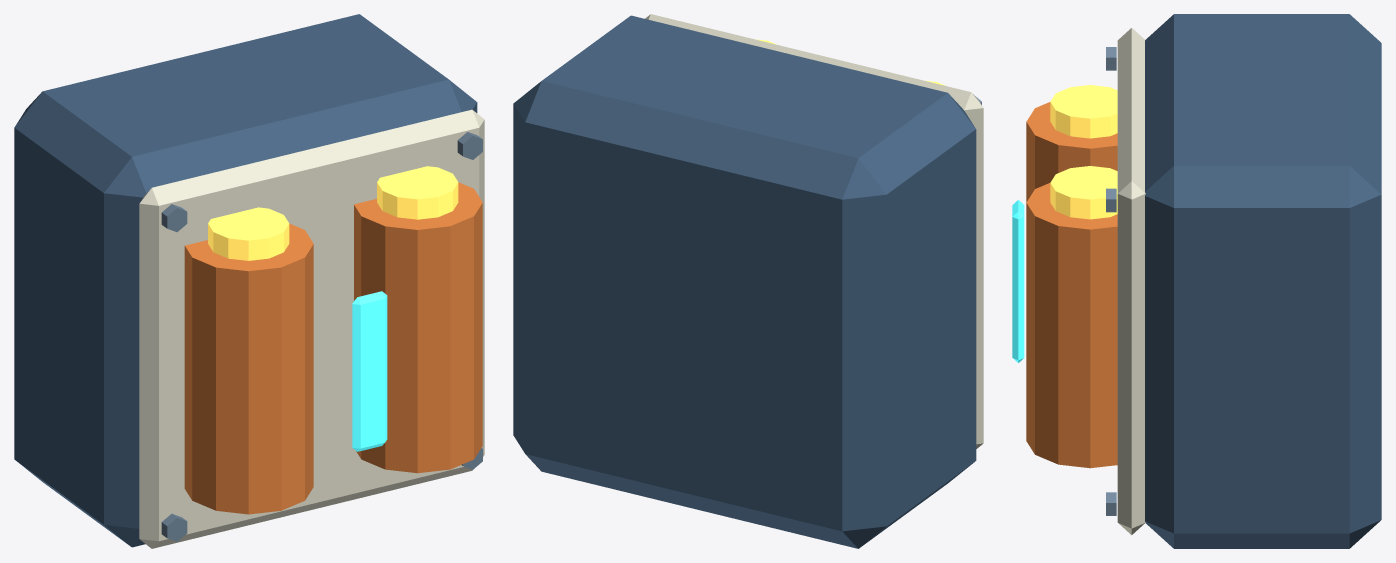
File: cell.glb
3 renders of one model, left to right at view 1: azimuth 30°, elevation 25°; view 2: azimuth 150°, elevation 25°; view 3: azimuth 270°, elevation 25°, orthographic.
Parts seen in each view (by area): view 1: Structural core, Front armor, Energy cartridge, Energy cartridge.001, Charge window, Terminal, Terminal.001, Rivet, Rivet.001, Rivet.003; view 2: Structural core, Front armor; view 3: Structural core, Energy cartridge.001, Front armor, Energy cartridge, Terminal, Terminal.001, Charge window.
Boxes of the visible parts, x1,y1,x2,y2 form: Structural core: [14, 14, 477, 547]; Front armor: [139, 109, 484, 548]; Energy cartridge: [184, 223, 313, 514]; Energy cartridge.001: [354, 182, 482, 473]; Charge window: [352, 291, 387, 451]; Terminal: [208, 207, 289, 260]; Terminal.001: [377, 166, 458, 219]; Rivet: [161, 513, 187, 541]; Rivet.001: [161, 204, 187, 231]; Rivet.003: [457, 132, 482, 159]; Structural core: [513, 15, 976, 548]; Front armor: [645, 14, 983, 448]; Structural core: [1145, 14, 1381, 548]; Energy cartridge.001: [1026, 183, 1117, 468]; Front armor: [1117, 28, 1145, 534]; Energy cartridge: [1026, 102, 1117, 202]; Terminal: [1050, 85, 1117, 138]; Terminal.001: [1050, 166, 1117, 219]; Charge window: [1012, 200, 1024, 362].
Bounding box in the file's own units: 1.06 × 1.06 × 0.925.
